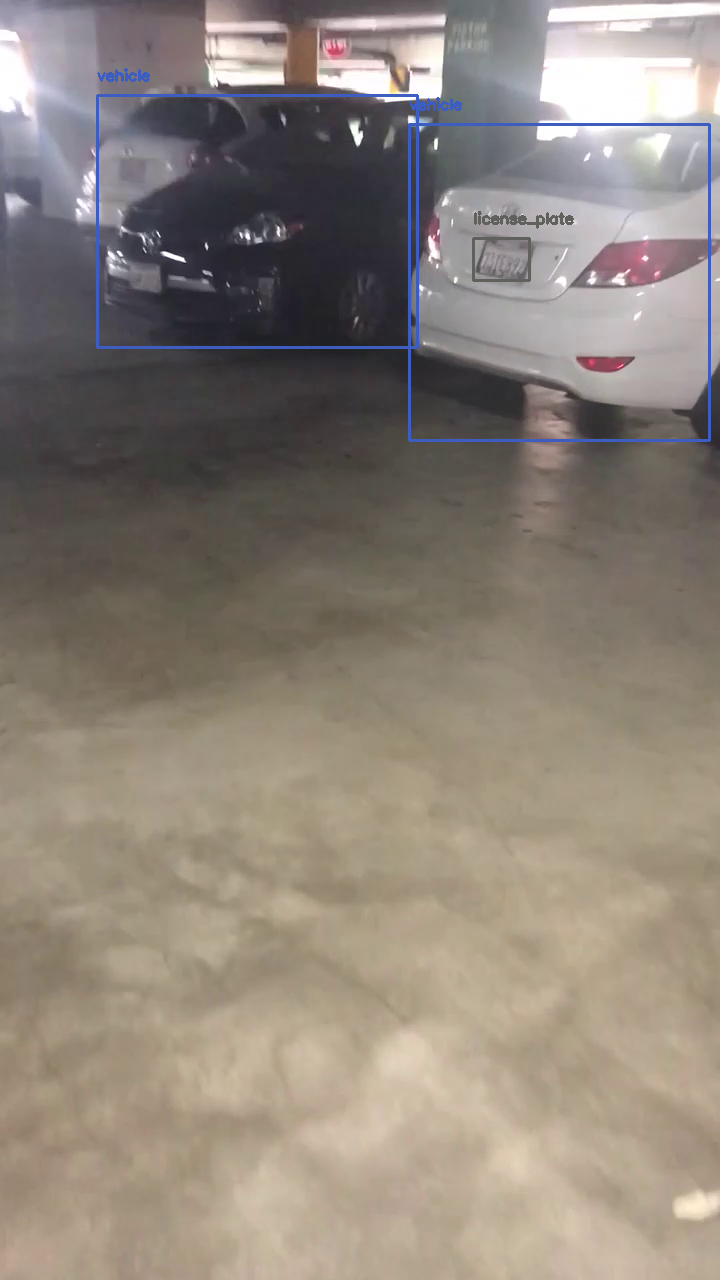license_plate: (473, 238, 529, 280)
vehicle: (409, 124, 709, 440), (97, 95, 417, 347)
